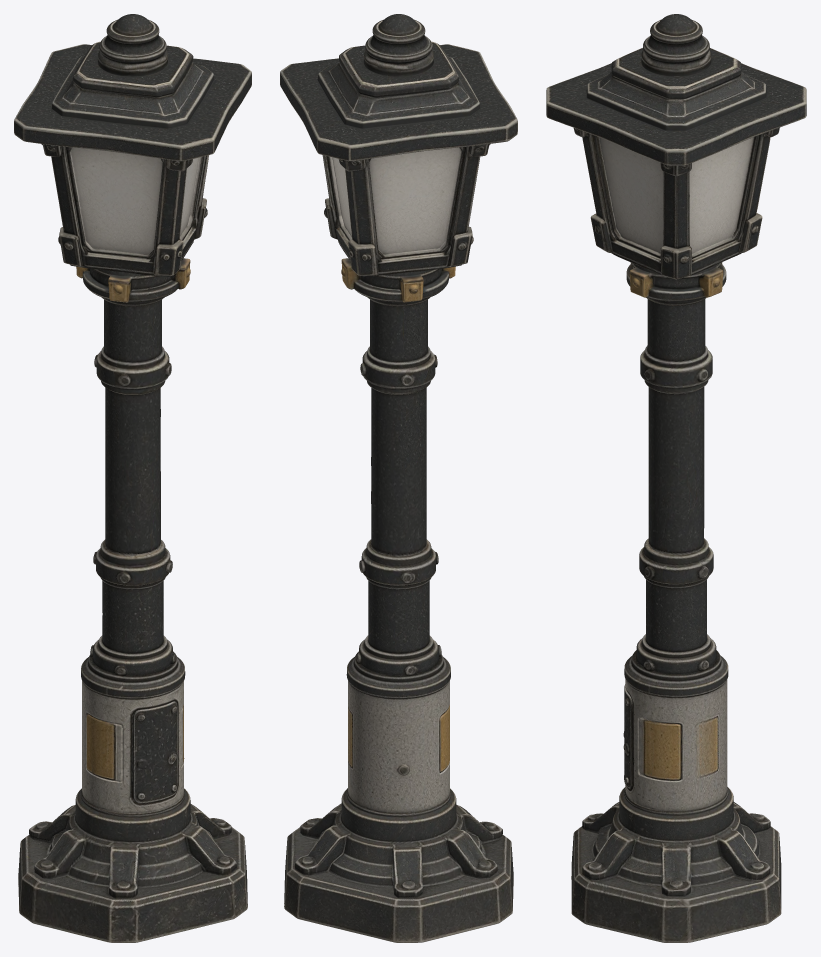
File: poste_DKB.glb
3 views of the same model, side by side, from view 1: azimuth 30°, elevation 25°; view 2: azimuth 150°, elevation 25°; view 3: azimuth 270°, elevation 25° (orthographic).
Size of the model in its own units: 0.5196 by 1.9 by 0.5129.
Materials: 1 (1 with a texture image).
